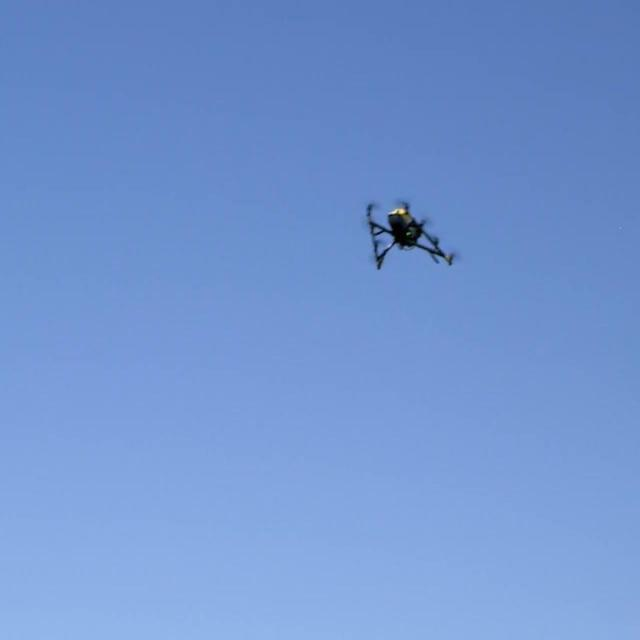UAV: (366, 198, 464, 270)
